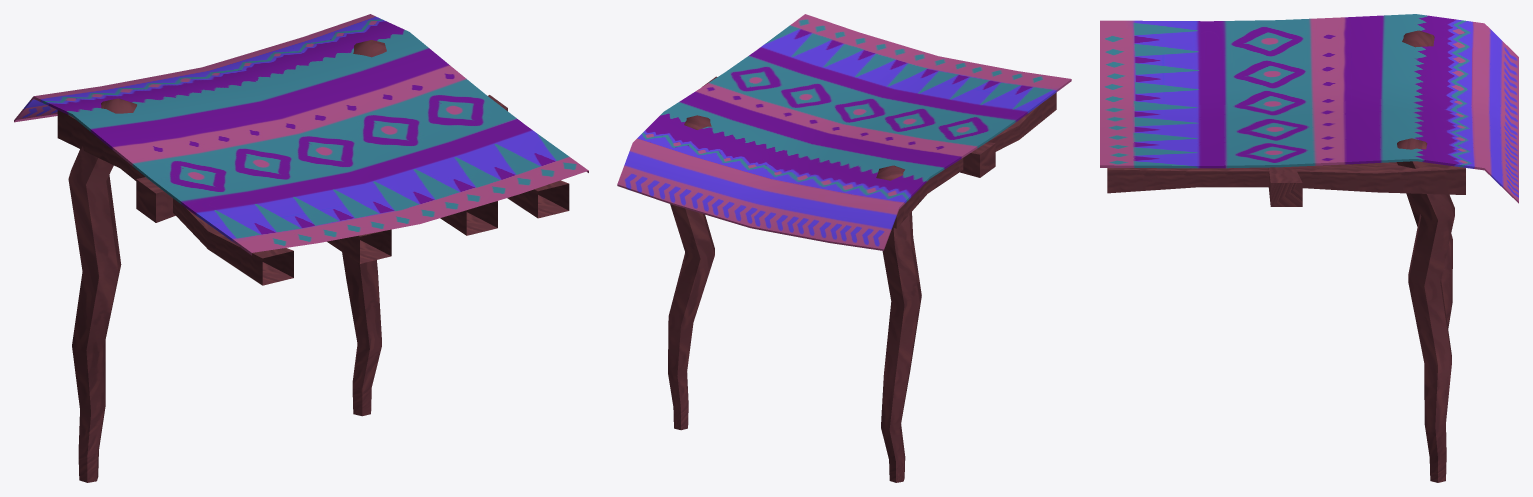
File: porche.fbx
3 renders of one model, left to right at view 1: azimuth 30°, elevation 25°; view 2: azimuth 150°, elevation 25°; view 3: azimuth 270°, elevation 25°, orthographic. The views are drawn at different scales.
Visible parts, largest first — view 1: pPlane16; view 2: pPlane16; view 3: pPlane16.
Boxes of the visible parts, bbox=[...] form: pPlane16: bbox=[14, 14, 588, 482]; pPlane16: bbox=[617, 14, 1071, 482]; pPlane16: bbox=[1100, 14, 1518, 482].
Size of the model in its own units: 9.11 by 9.48 by 10.63.
